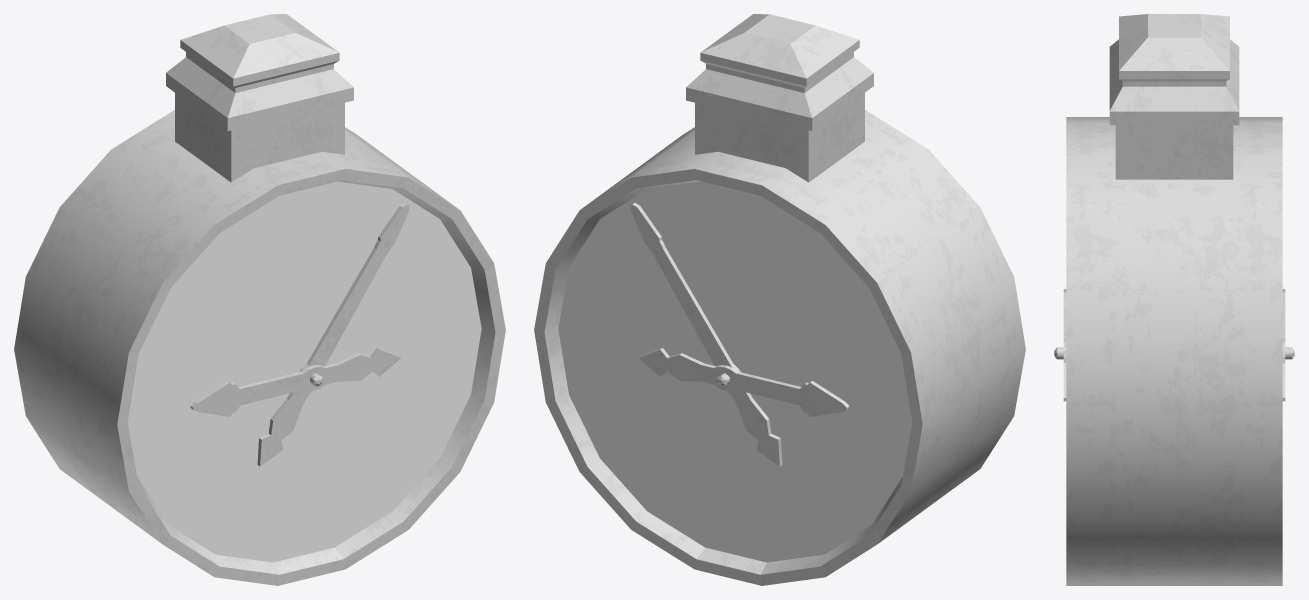
File: Clock_B_001.fbx
3 renders of one model, left to right at view 1: azimuth 30°, elevation 25°; view 2: azimuth 150°, elevation 25°; view 3: azimuth 270°, elevation 25°, orthographic. The views are drawn at different scales.
Parts seen in each view (by area): view 1: Clock_B_001; view 2: Clock_B_001; view 3: Clock_B_001.
Boxes of the visible parts, x1,y1,x2,y2 form: Clock_B_001: (14, 14, 505, 585); Clock_B_001: (534, 14, 1025, 585); Clock_B_001: (1054, 14, 1294, 585).
Size of the model in its own units: 275 by 345 by 140.
Materials: 3 (3 with a texture image).
